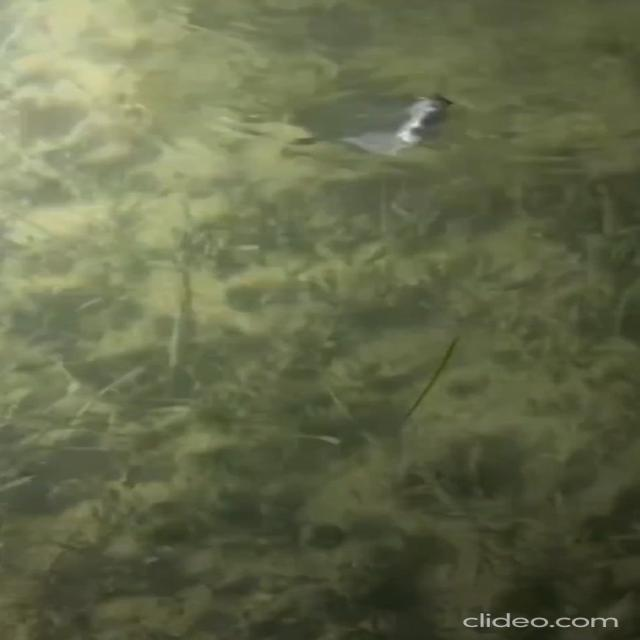fish: (352, 87, 472, 152)
